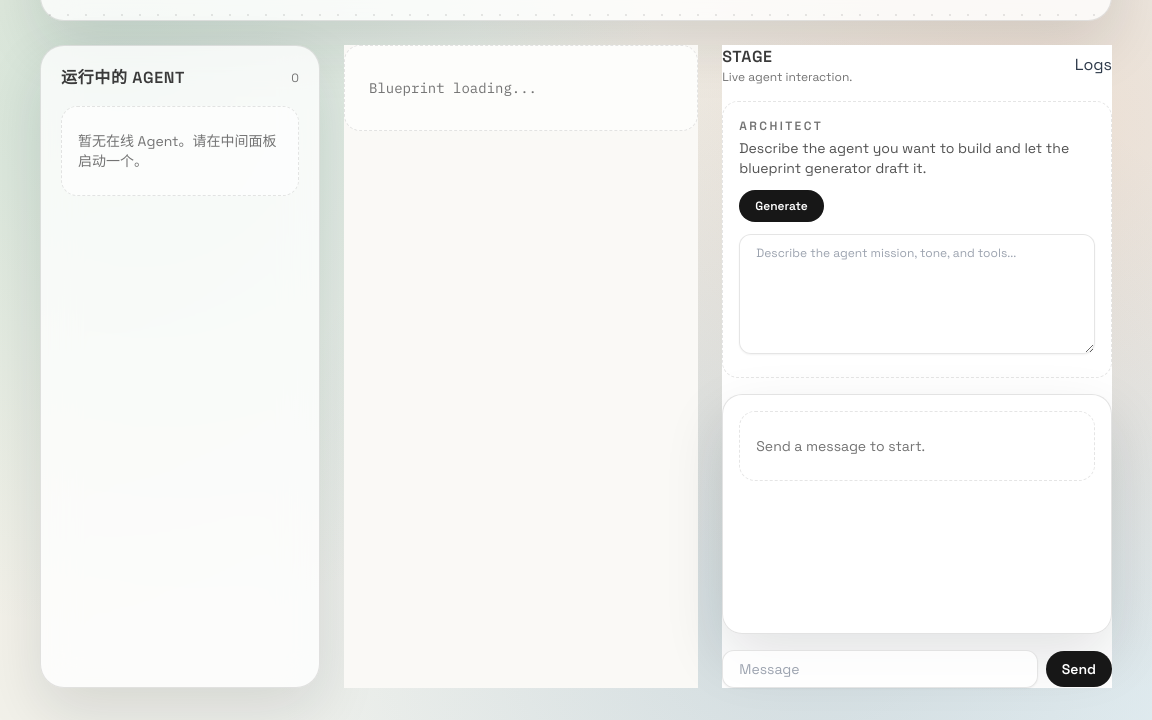
it: shows retry action for assistant messages
(page scrolled)
Type "Find the latest news" into the field with placeholder "Message" at [880, 669], box top-left (722, 650), bottom-right (1038, 688)
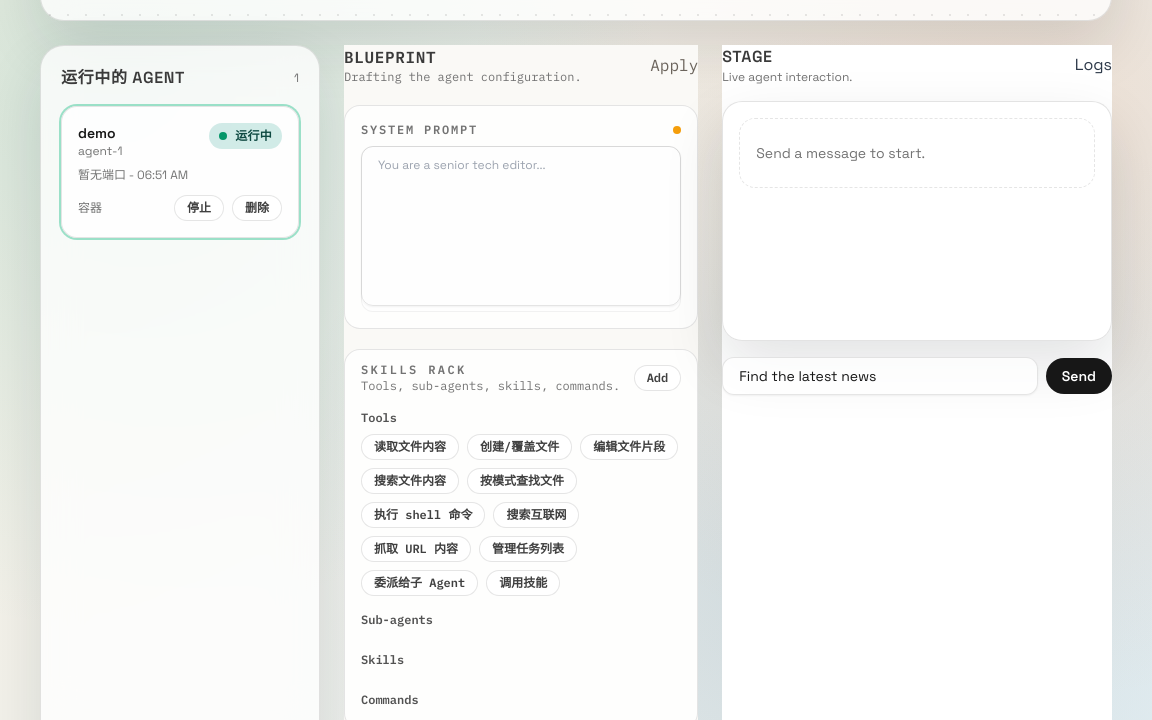
Click the button "Send" at [1079, 376], box top-left (1046, 358), bottom-right (1112, 394)
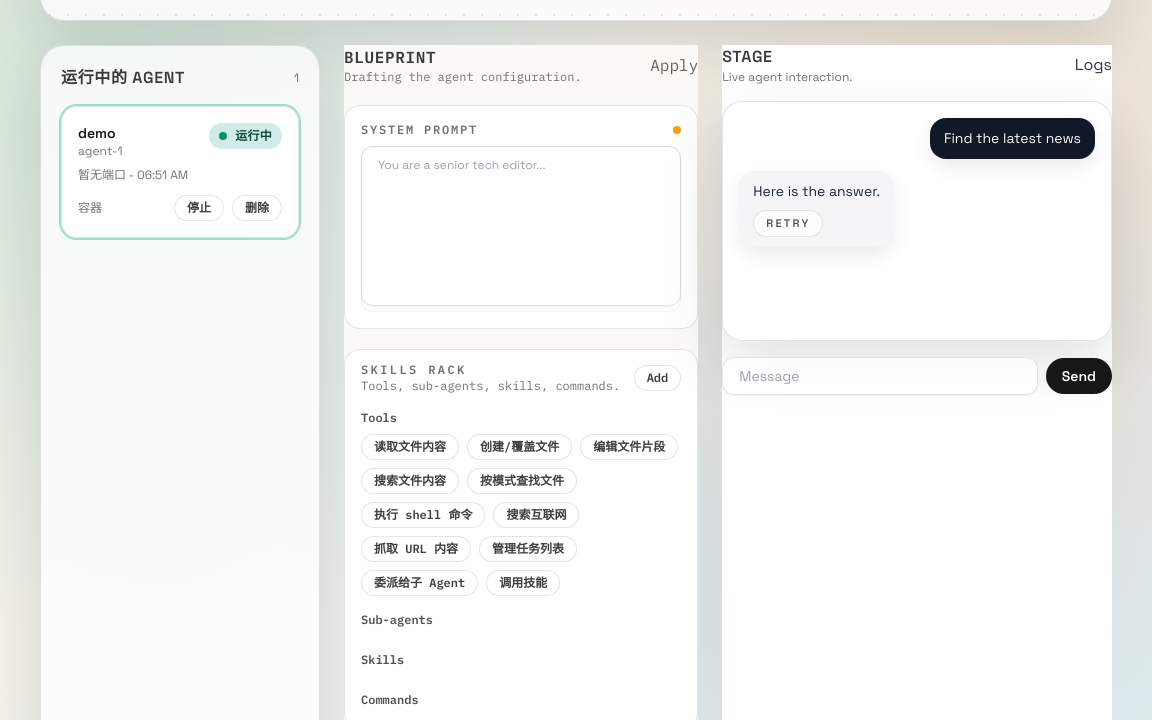
Expected: the button "Retry" is shown, top-left (753, 210), bottom-right (823, 236)
